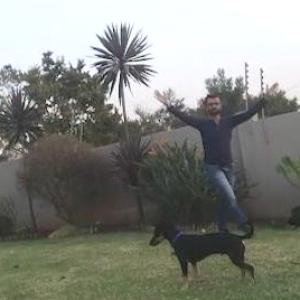takeoff: (171, 85, 290, 219)
